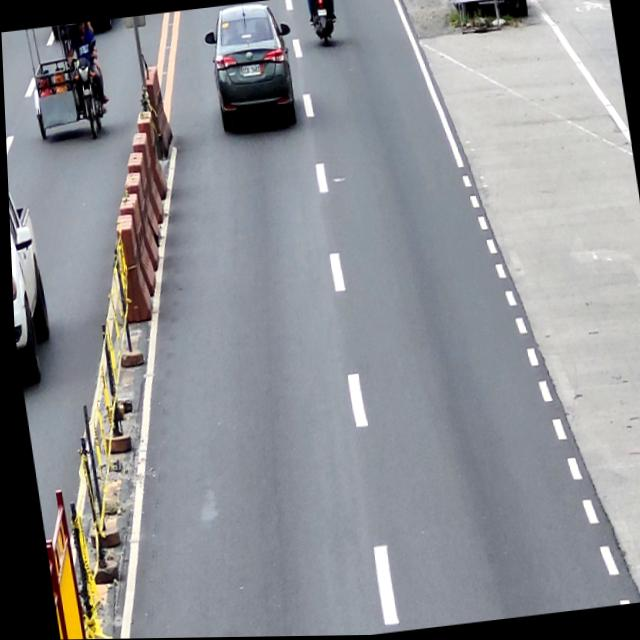Car: (199, 1, 304, 136)
License-Plate: (240, 63, 261, 77), (317, 8, 327, 16)
Motorcycle: (306, 0, 338, 50)
